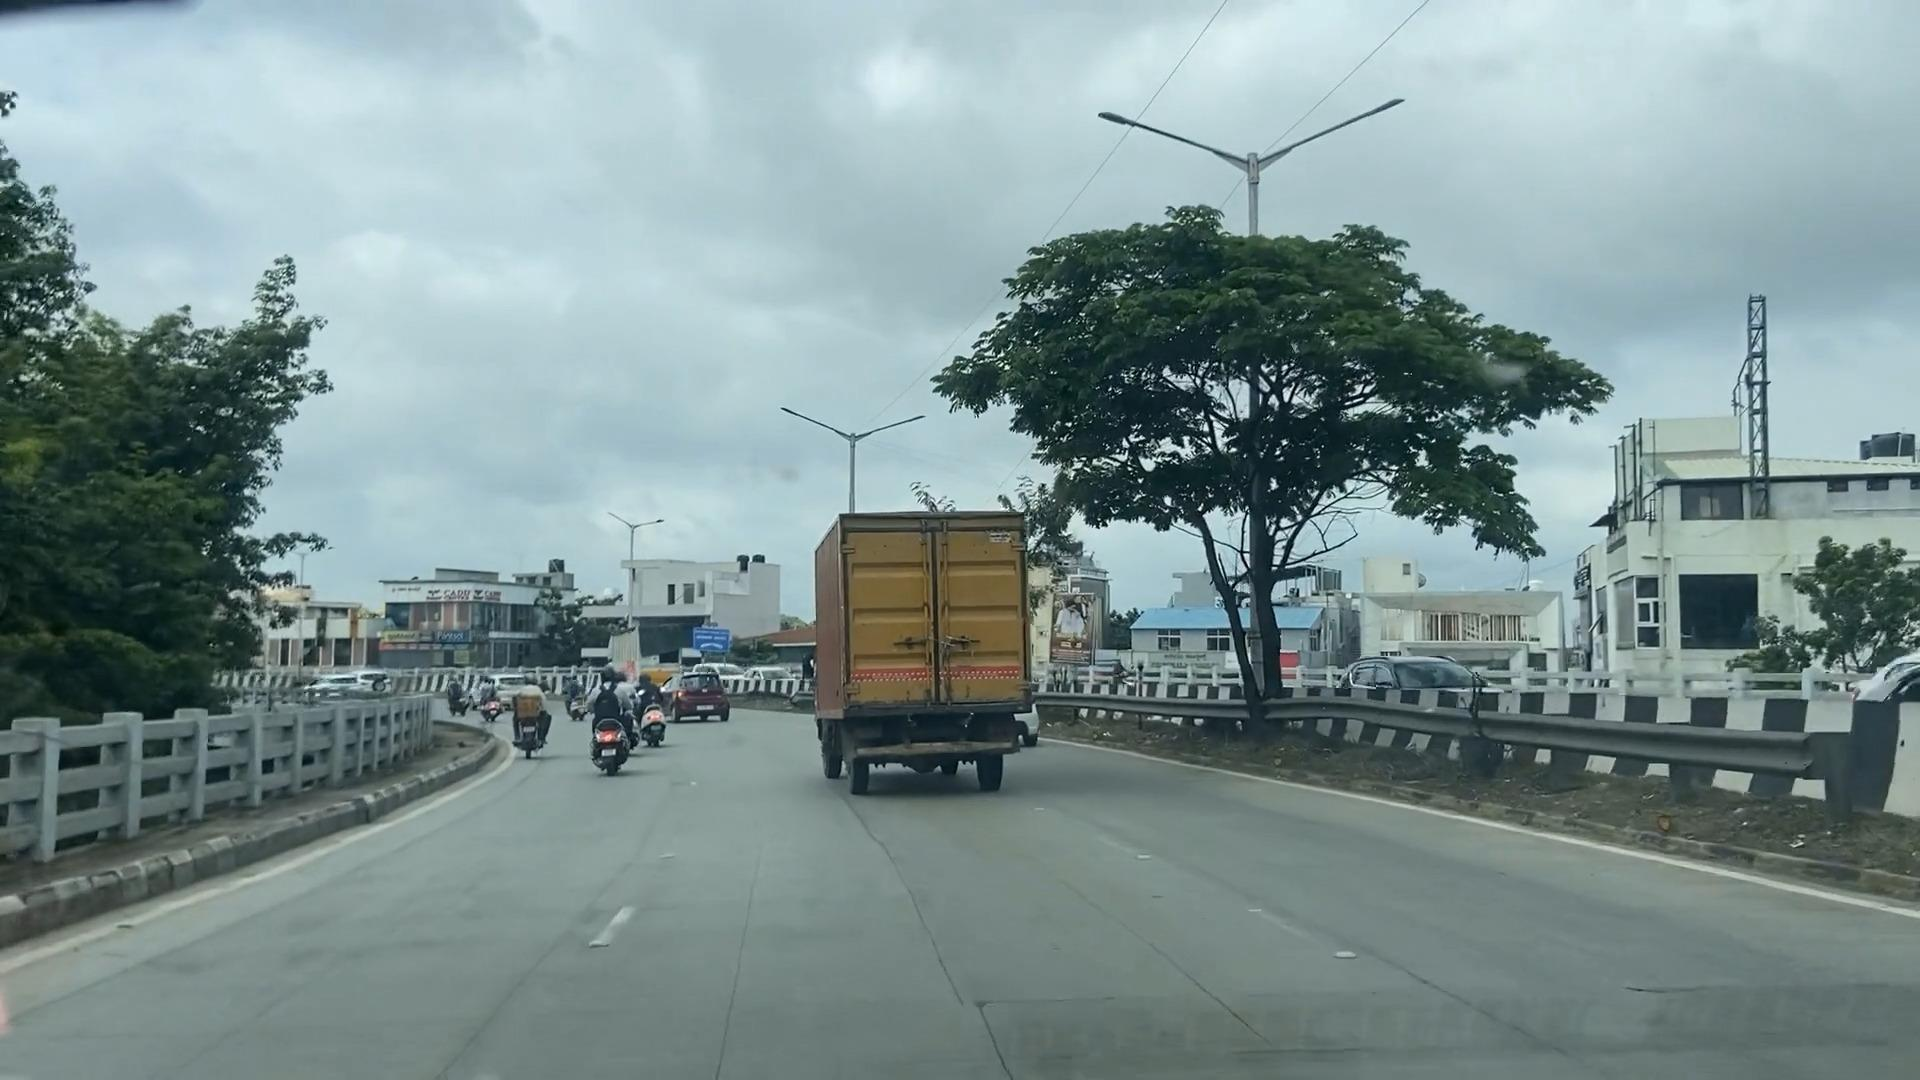HMV: (818, 516, 1024, 788)
LMV: (584, 670, 628, 763), (508, 678, 552, 767), (662, 676, 731, 732)
